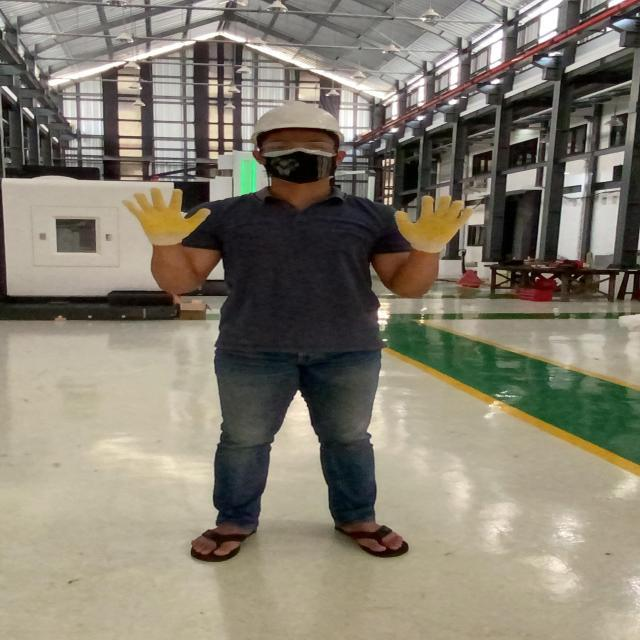glasses: (255, 139, 343, 156)
